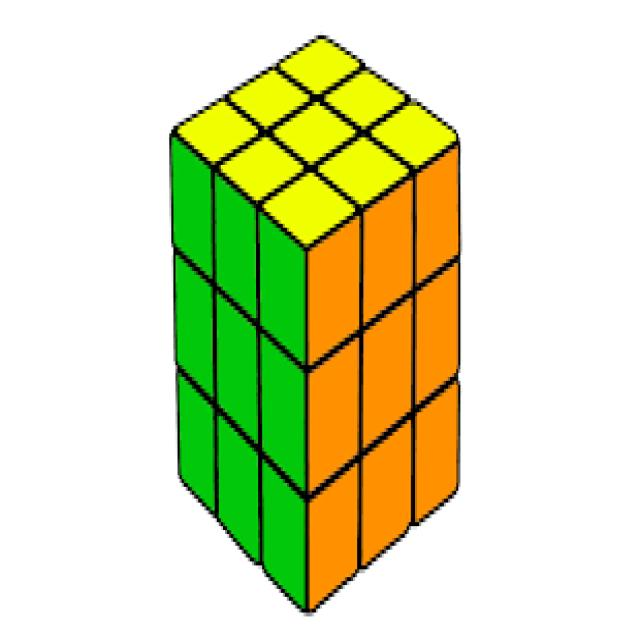Cubo-Resuelto: (171, 35, 458, 609)
